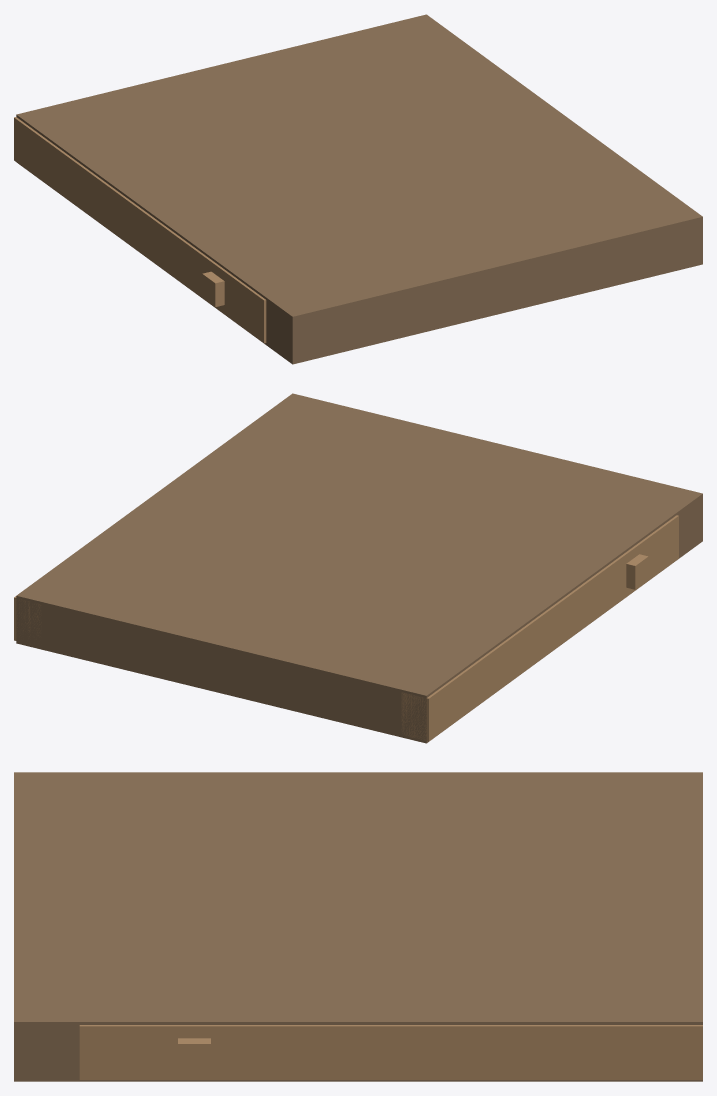
File: shop_weapon_rack.glb
3 renders of one model, top to bottom at view 1: azimuth 30°, elevation 25°; view 2: azimuth 150°, elevation 25°; view 3: azimuth 270°, elevation 25°, orthographic. The views are drawn at different scales.
Parts seen in each view (by area): view 1: back, side_l, bar; view 2: back, side_l, bar; view 3: back, side_r, bar.
Boxes of the visible parts, x1,y1,x2,y2 form: back: (16,14,702,364); side_l: (14,117,266,343); bar: (202,271,224,307); back: (16,393,702,743); side_l: (401,515,678,741); bar: (626,554,648,589); back: (14,772,702,1081); side_r: (79,1025,702,1079); bar: (178,1038,210,1073).
Size of the model in its own units: 1.9 by 0.255 by 2.1.
